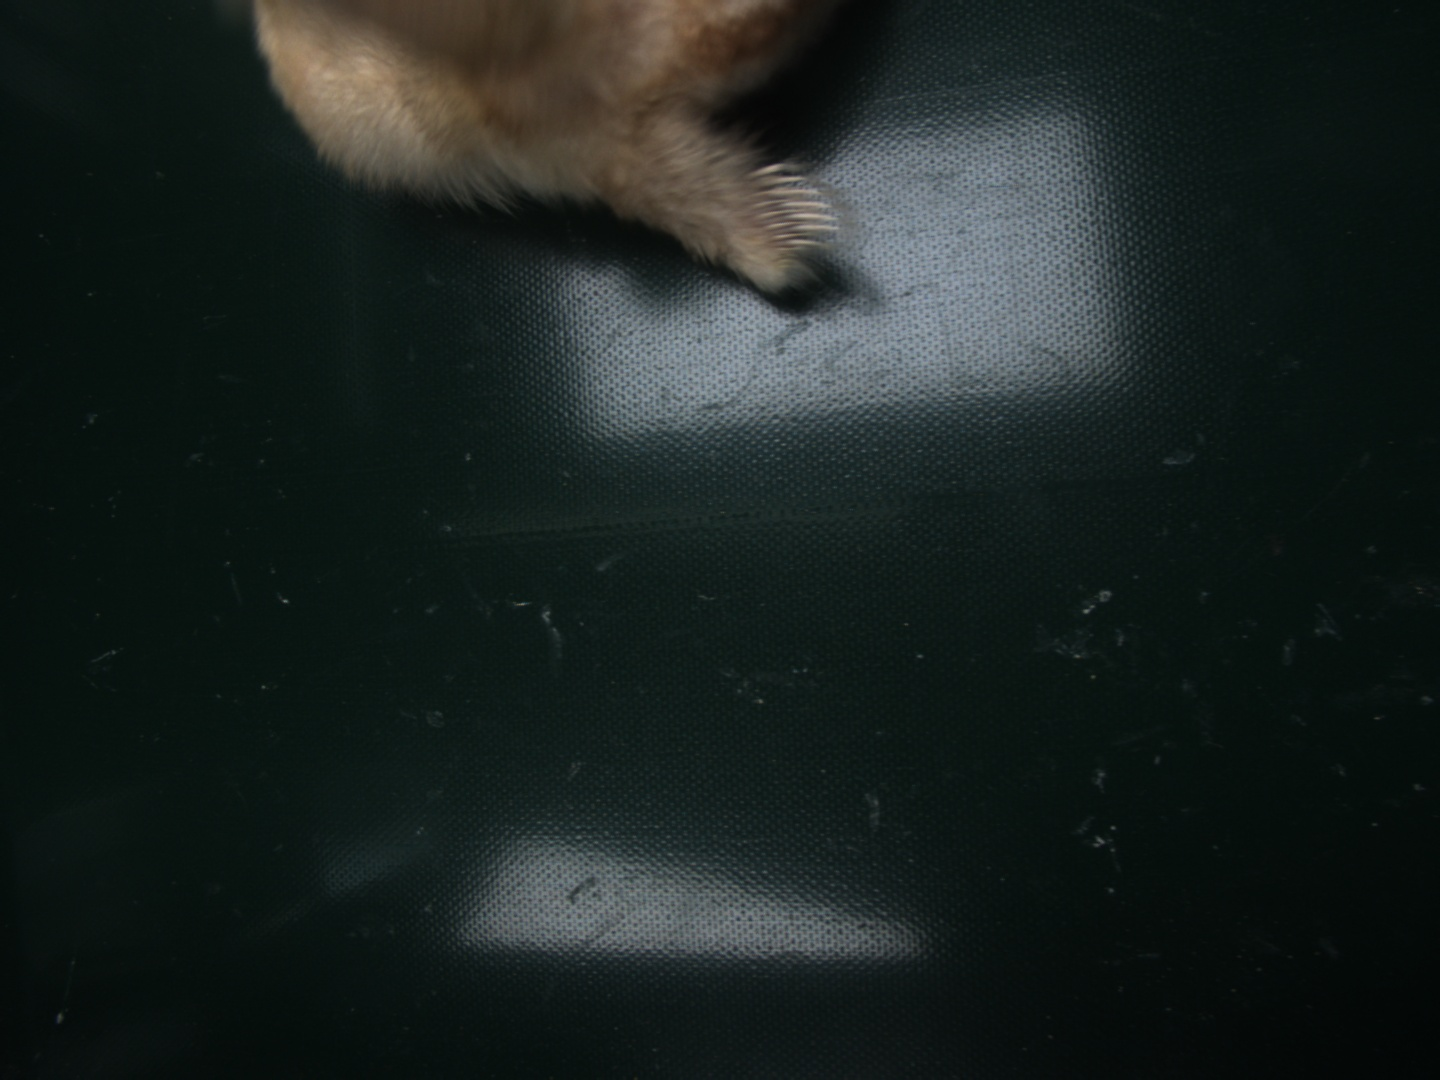female: (742, 164, 842, 253)
